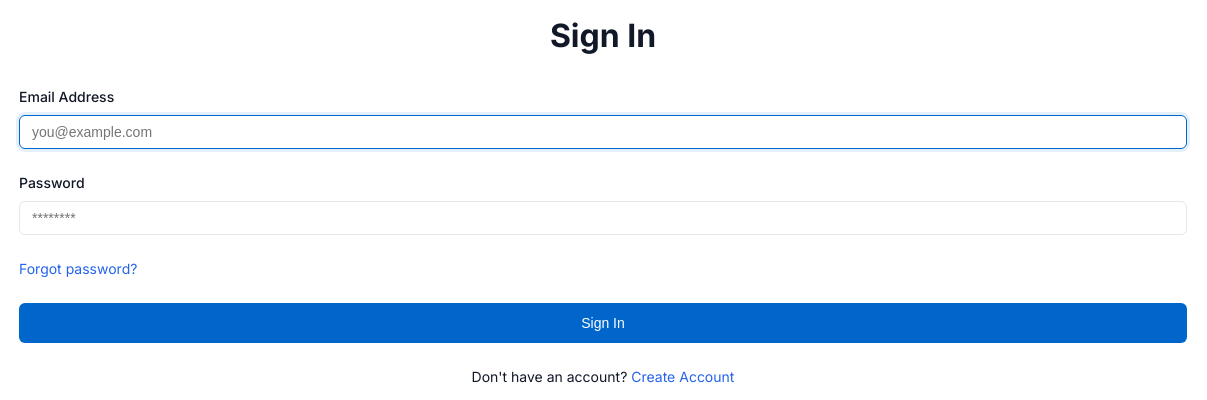
it: Phase 2.2: Authentication UI › Sign In Page › handles MFA requirement
In the field labelled "Email Address": {"x": 603, "y": 132} x1=19 y1=115 x2=1187 y2=149, type "test@example.com"
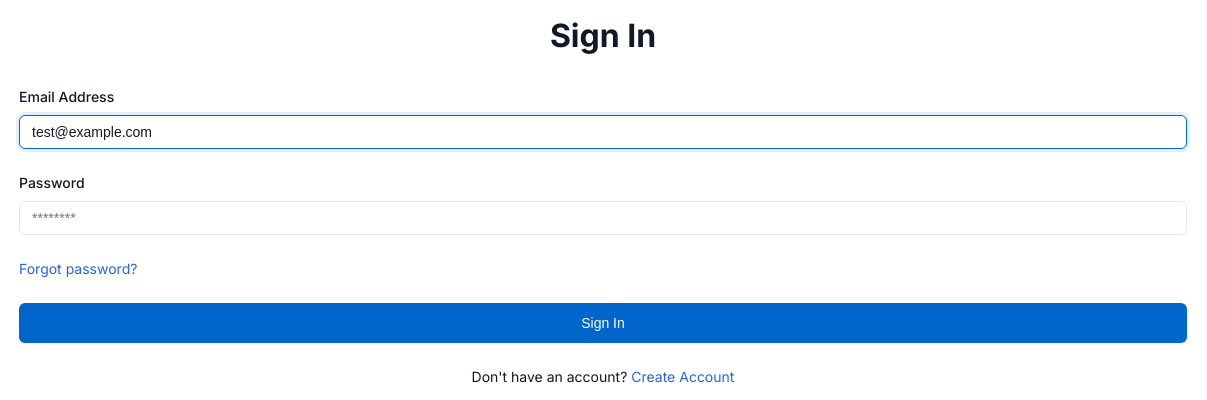
In the password field labelled "Password": {"x": 603, "y": 218} x1=19 y1=201 x2=1187 y2=235, type "TestPassword123!"
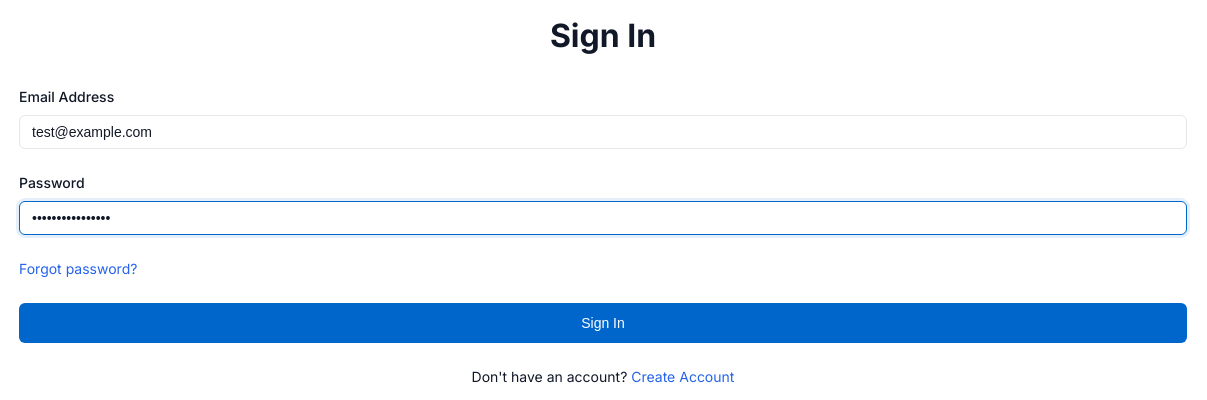
Click the button "Sign In": {"x": 603, "y": 323} x1=19 y1=303 x2=1187 y2=343
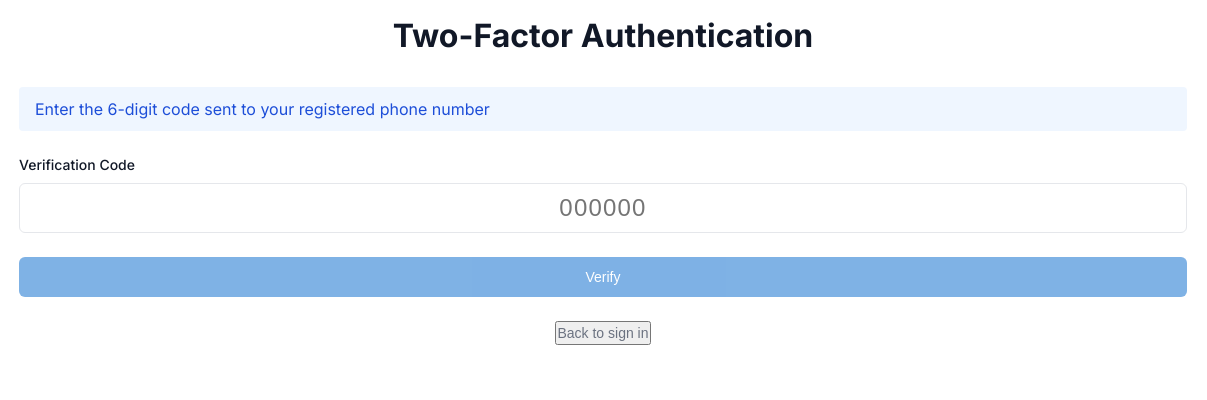
Expected: the field labelled "Verification Code" is shown, x1=19 y1=183 x2=1187 y2=233
Now the heading "Two-Factor Authentication" is shown, box x1=393 y1=16 x2=813 y2=55
